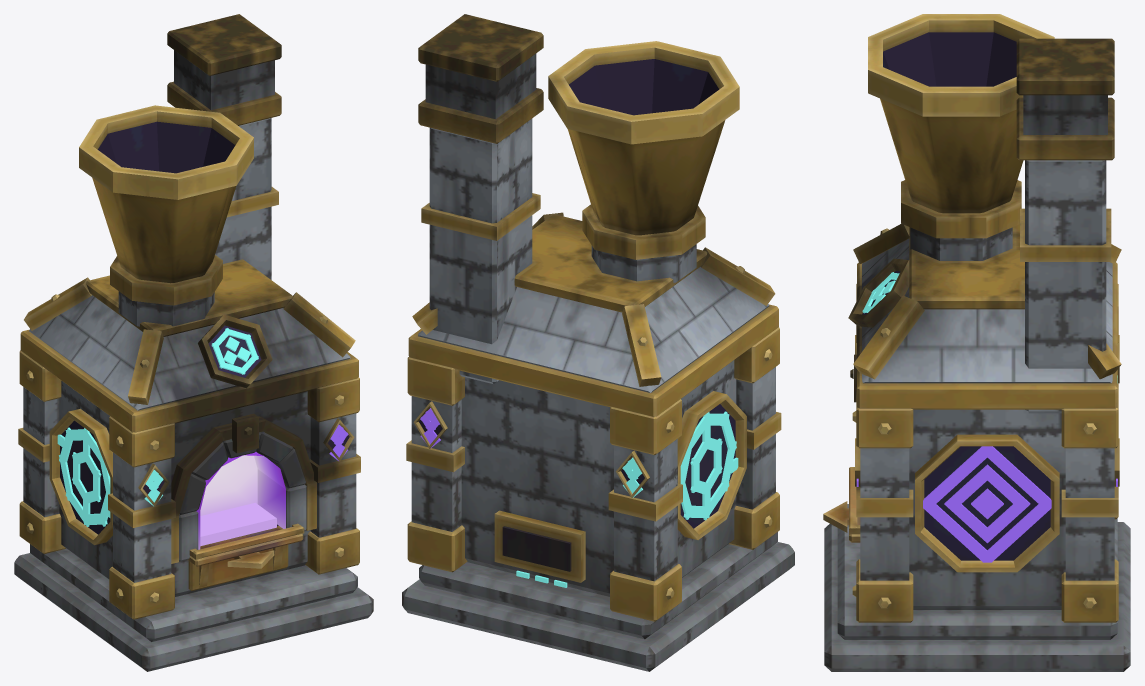
The model's file is arcane_forge.glb.
3 renders of one model, left to right at view 1: azimuth 30°, elevation 25°; view 2: azimuth 150°, elevation 25°; view 3: azimuth 270°, elevation 25°, orthographic. The views are drawn at different scales.
Parts seen in each view (by area): view 1: forge_body, glow_mouth, glow_runes; view 2: forge_body, glow_runes; view 3: forge_body, glow_runes.
Boxes of the visible parts, <box> form: forge_body: <box>14,14,373,671</box>; glow_mouth: <box>196,452,285,549</box>; glow_runes: <box>57,328,348,526</box>; forge_body: <box>402,14,794,671</box>; glow_runes: <box>420,408,738,587</box>; forge_body: <box>823,14,1130,671</box>; glow_runes: <box>856,272,1117,562</box>.
Bounding box in the file's own units: 0.947 × 2 × 0.944.
Materials: 4 (4 with a texture image).
